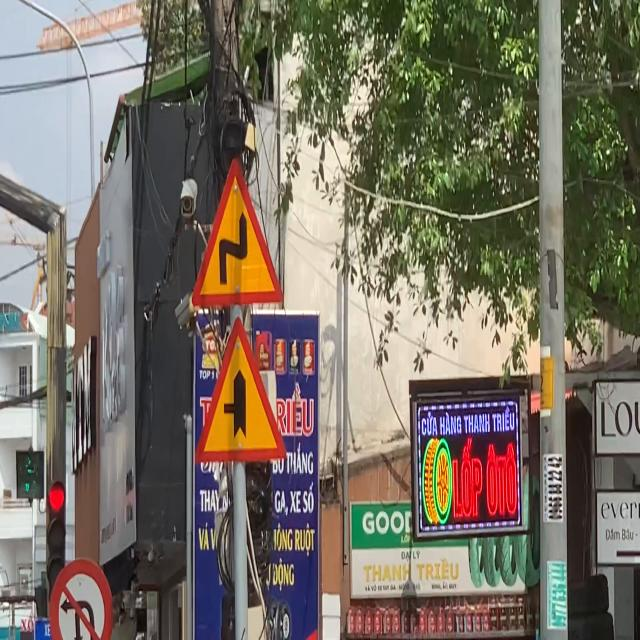Cam con lai: (48, 554, 113, 640)
Giao voi duong khong uu tien: (193, 313, 290, 464)
Nguy hiem: (191, 156, 286, 308)
